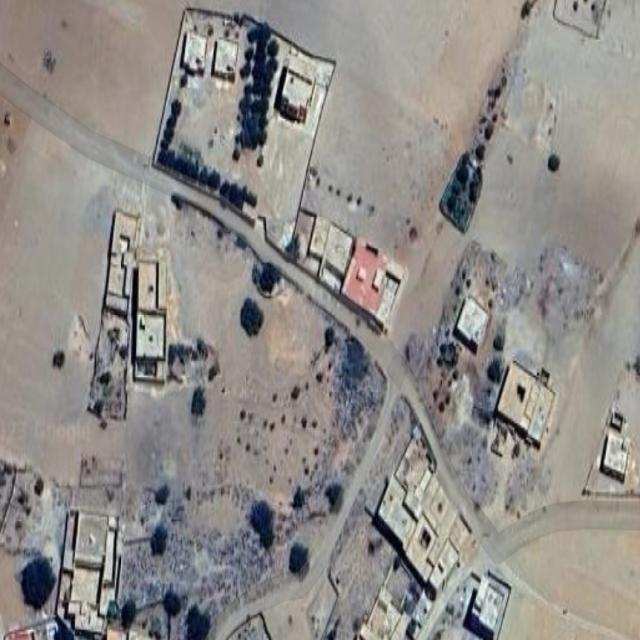Countryside roofs: (499, 346, 559, 469), (345, 220, 396, 330), (270, 52, 322, 141), (457, 572, 523, 638), (67, 510, 120, 581), (104, 212, 140, 315), (174, 10, 212, 90), (454, 280, 491, 360), (395, 428, 425, 502), (598, 424, 634, 482), (128, 262, 170, 309), (205, 34, 244, 83), (380, 476, 408, 540), (136, 316, 170, 364), (412, 519, 433, 585), (418, 500, 462, 531)
